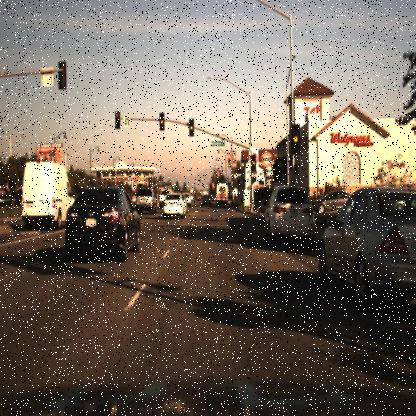car: (316, 186, 416, 304), (60, 184, 142, 272), (17, 156, 74, 228), (262, 182, 315, 250), (312, 188, 356, 213), (158, 192, 186, 218), (135, 188, 158, 216), (158, 188, 170, 211), (198, 192, 212, 209)
trafficLight-RedLeft: (113, 107, 121, 130)
trafficLight-Yellow: (290, 122, 300, 155), (185, 118, 197, 142), (290, 124, 301, 150), (251, 152, 258, 174), (158, 113, 164, 132), (250, 157, 255, 173)
truck: (19, 156, 74, 224), (215, 181, 230, 205)
